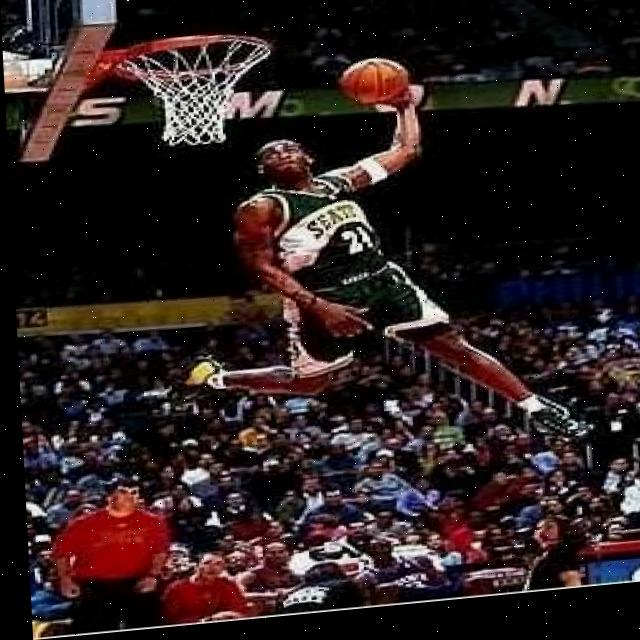basketball: (340, 53, 412, 107)
hoop: (121, 27, 277, 152)
